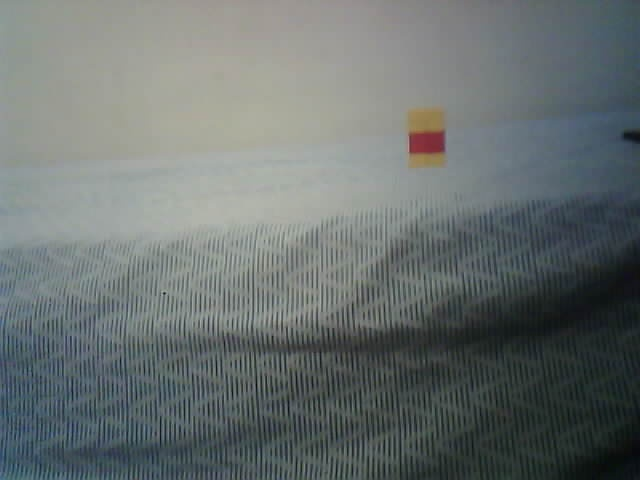lego: (406, 106, 447, 170)
